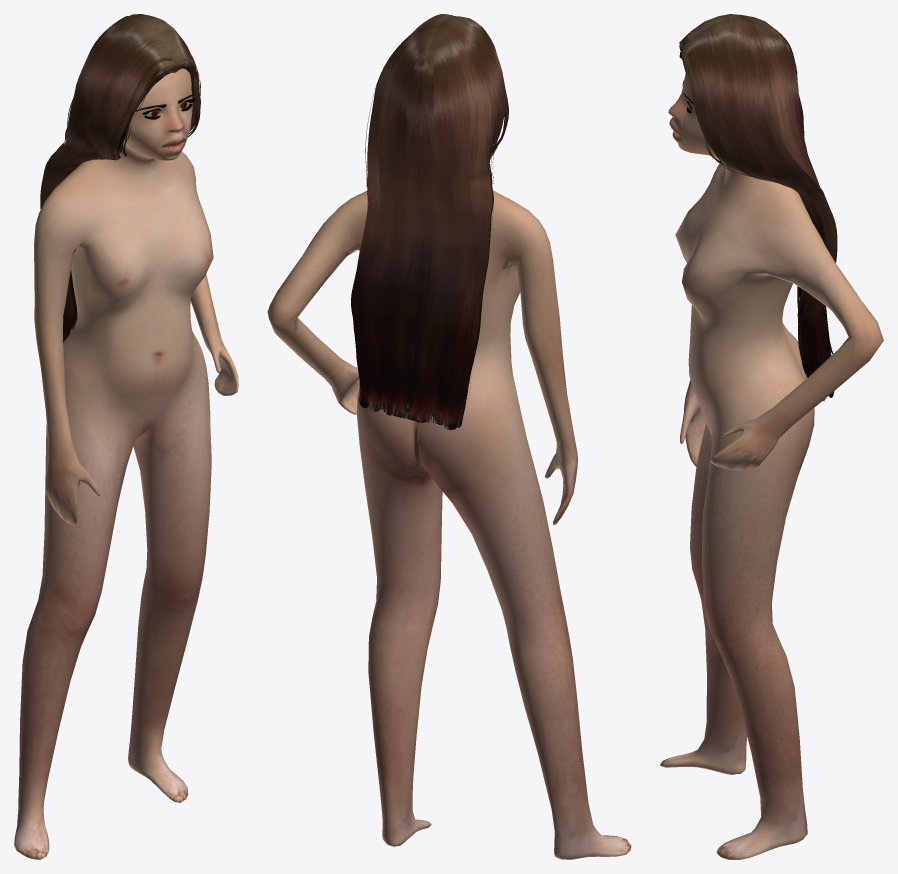
Rendered from NPC.glb.
3 views of the same model, side by side, from view 1: azimuth 30°, elevation 25°; view 2: azimuth 150°, elevation 25°; view 3: azimuth 270°, elevation 25° (orthographic). The views are drawn at different scales.
Visible parts, largest first — view 1: npc_test-proxy741, npc_test-long01; view 2: npc_test-proxy741, npc_test-long01; view 3: npc_test-proxy741, npc_test-long01.
Part boxes in pixels (x1,y1,x2,y2): npc_test-proxy741: [14, 68, 238, 859]; npc_test-long01: [40, 14, 200, 342]; npc_test-proxy741: [267, 190, 631, 859]; npc_test-long01: [351, 14, 508, 430]; npc_test-proxy741: [660, 74, 883, 859]; npc_test-long01: [679, 14, 837, 401].
Size of the model in its own units: 34.04 by 99.16 by 24.44.
7 materials, 7 textured.
